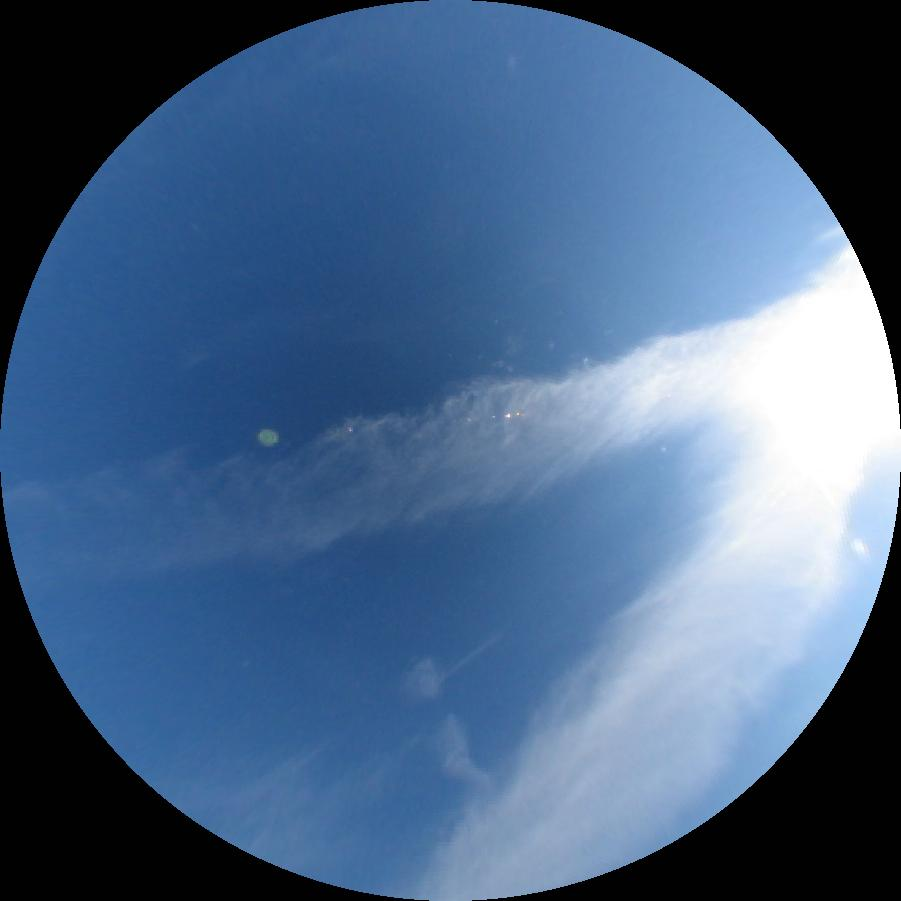contrail veryold: (0, 279, 826, 595), (412, 659, 499, 796)
unknow: (441, 634, 501, 680)
